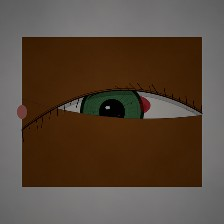hemorrhage_spot: (89, 77, 160, 134)
